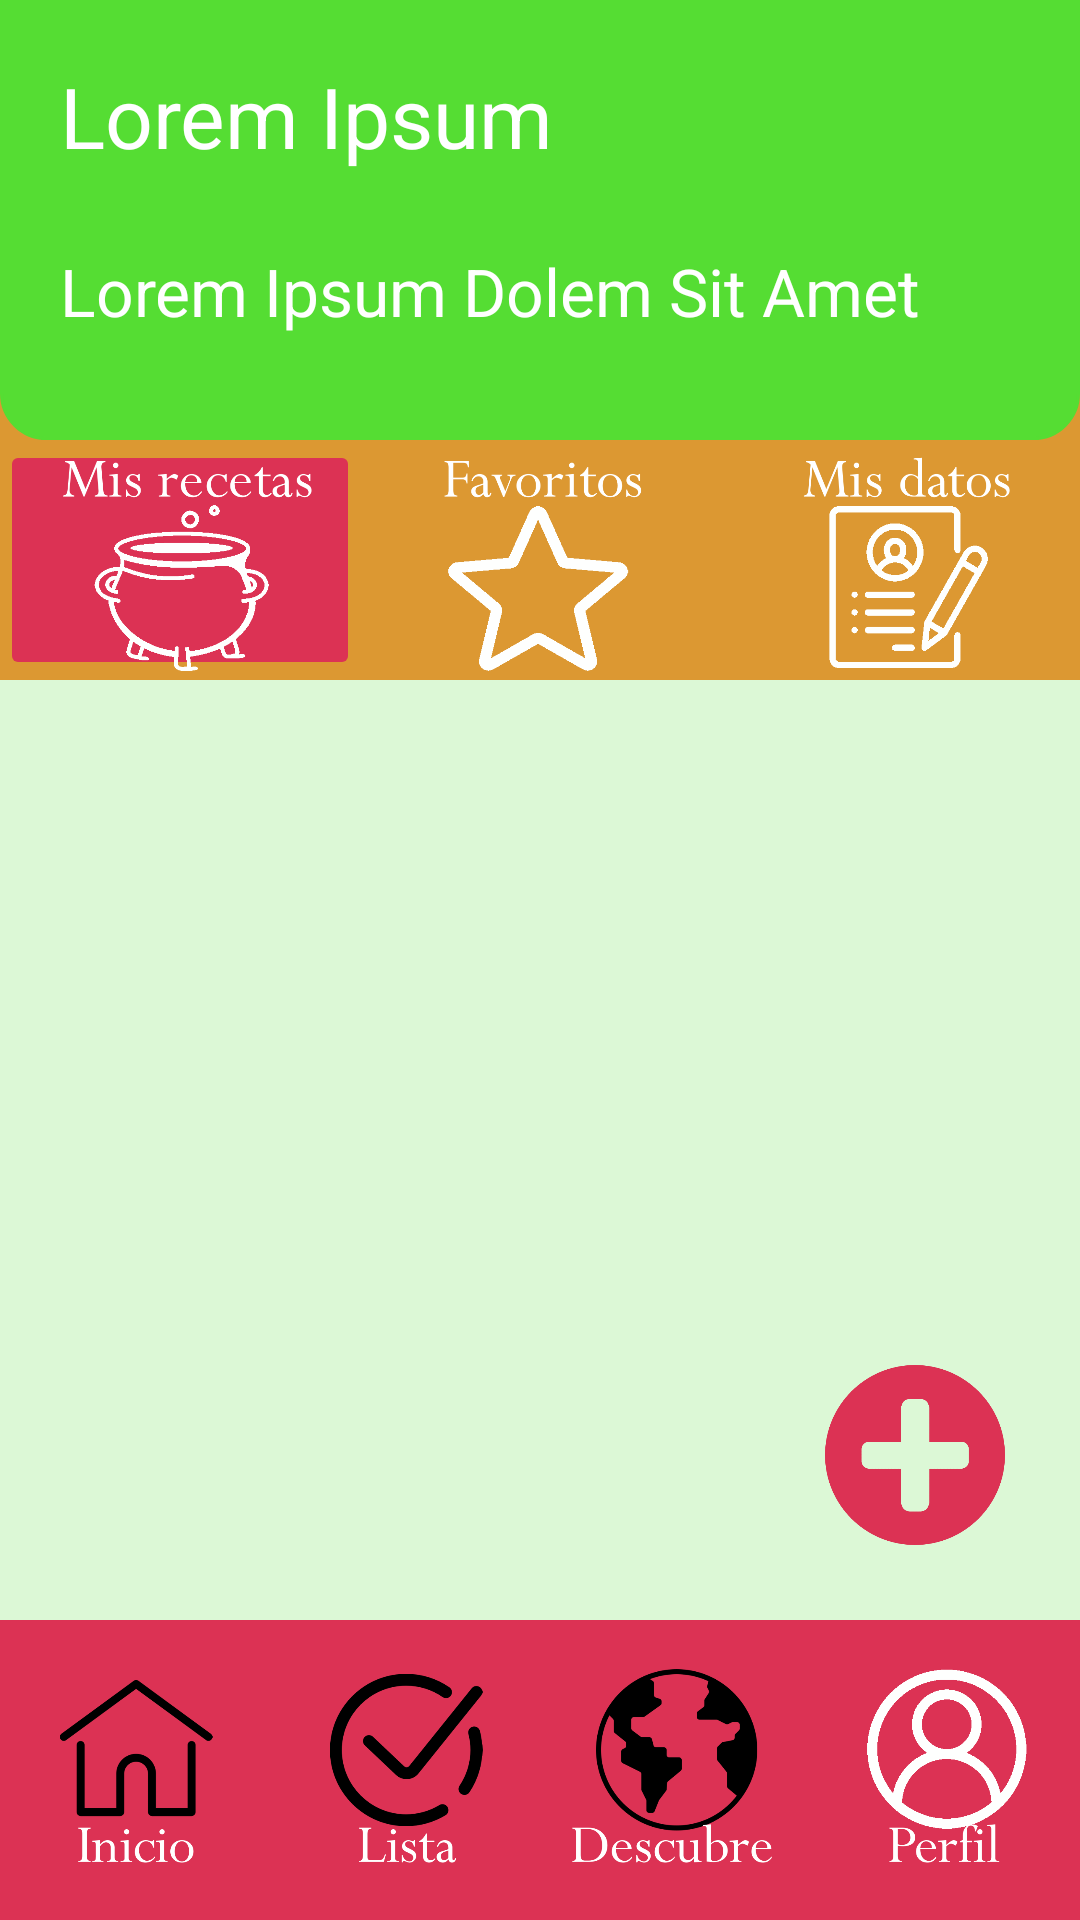

Locate icon controls on the screen. Image size 1080 x 1920, boxes as rect(x1, y1, x2, y2).
add: rect(825, 1365, 1005, 1545)
